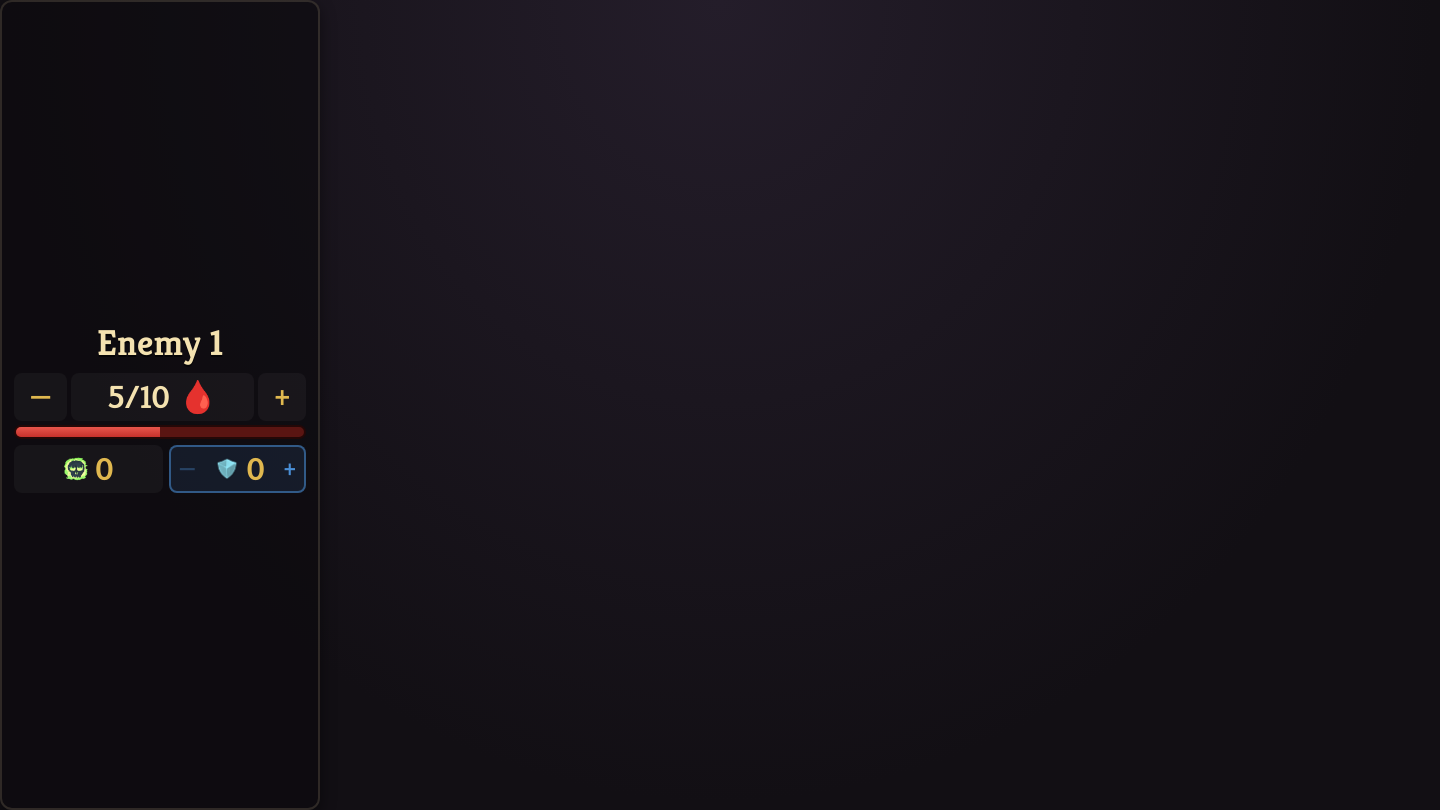
Test: EnemyCard › cancels the custom damage form on Escape
The width and height of the screenshot is (1440, 810).
Click the button named "Deal custom damage to Enemy 1" at {"x": 163, "y": 397}, box [71,373,254,421]
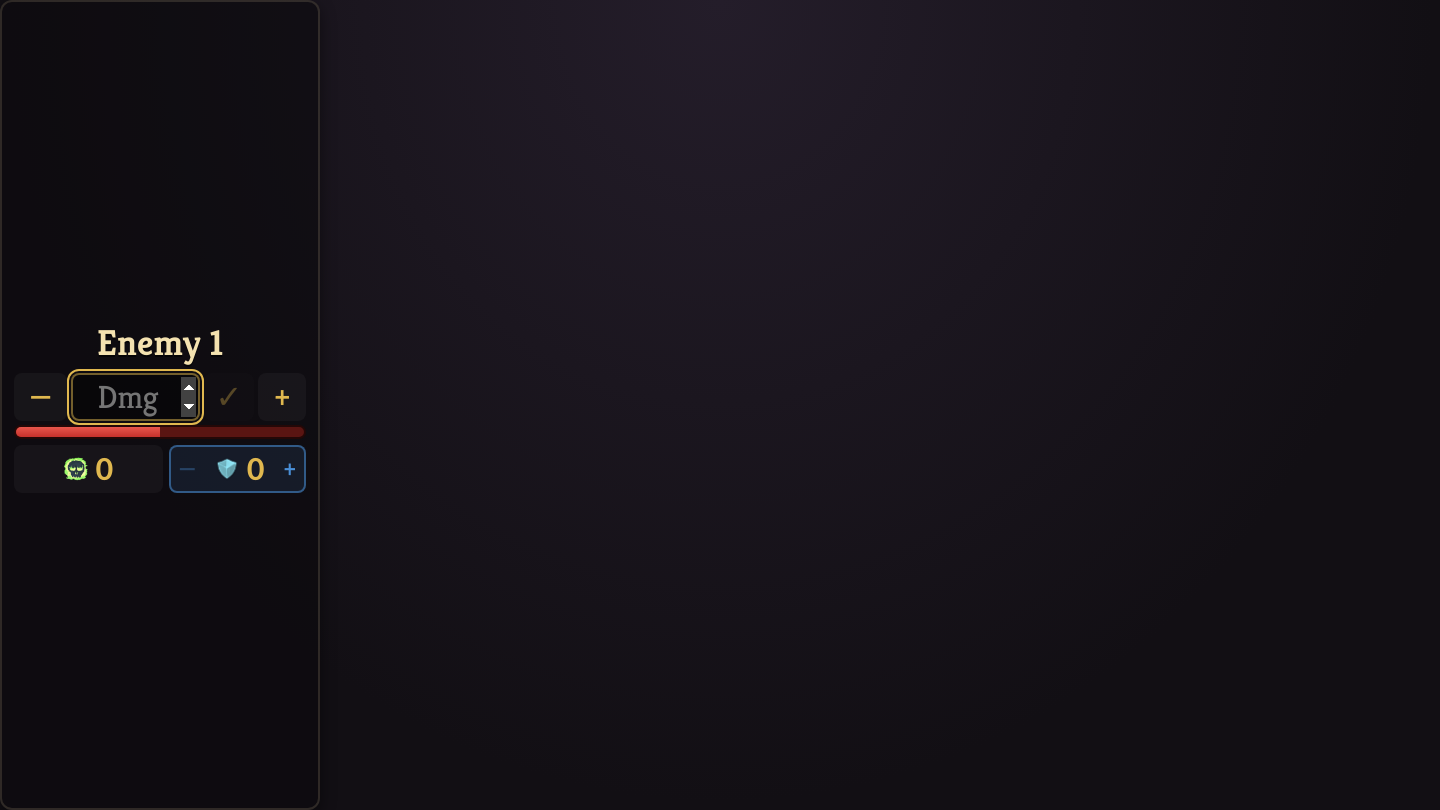
Press Escape
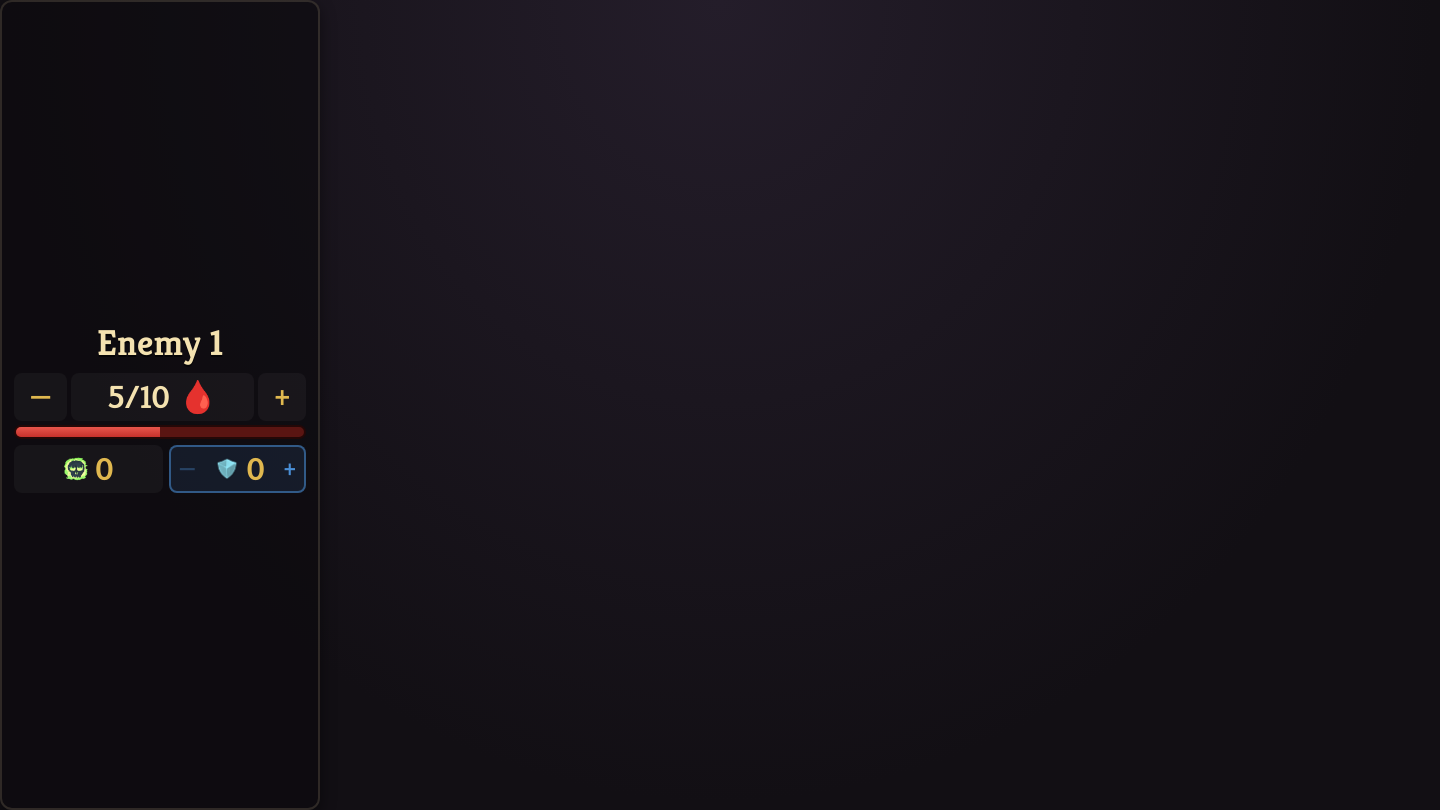
Result: the button named "Deal custom damage to Enemy 1" is shown at [71,373,254,421]
